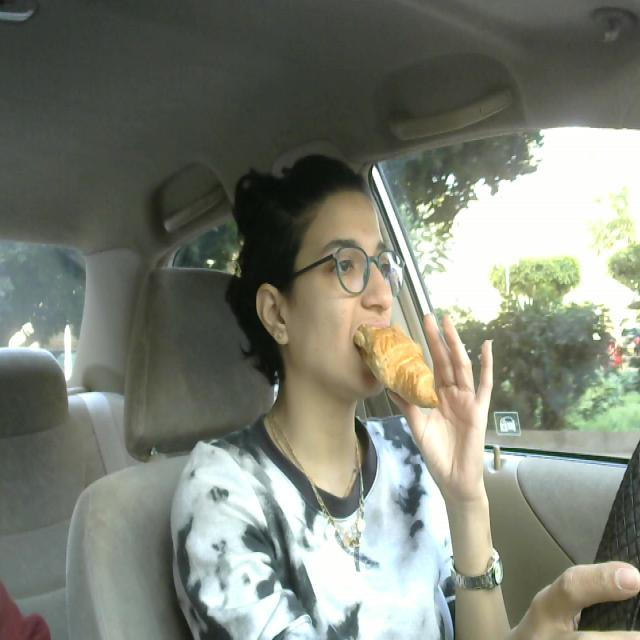eating: (347, 310, 443, 419)
